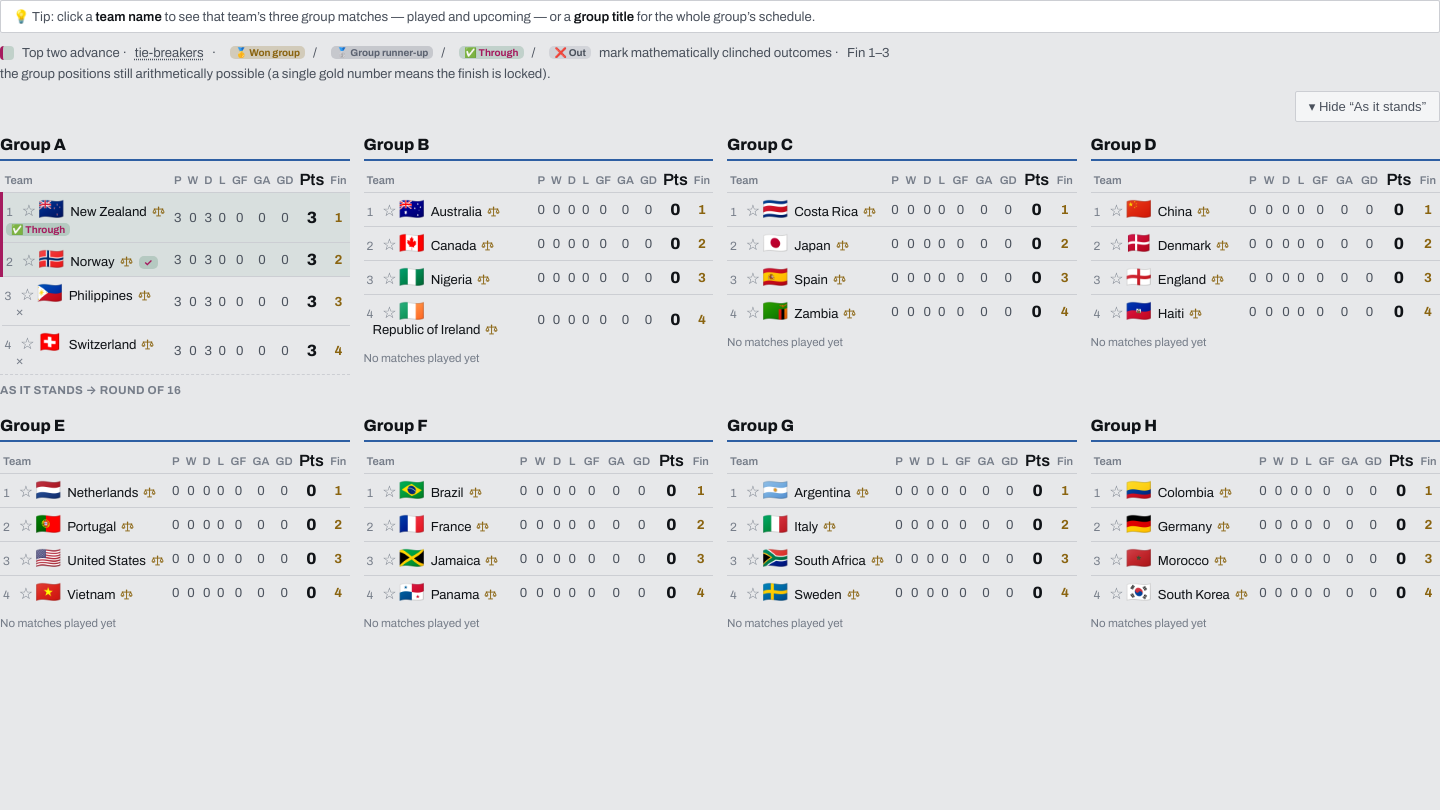
Test: Standings — what "as it stands" shows when the bracket cannot answer › offers a through team no matchup at all when neither source can name one
The width and height of the screenshot is (1440, 810).
What coordinates should you click on to do the following:
click the button with class "row-team-btn" showing "New Zealand"
I would click on:
 (108, 212)
Its box is [70, 204, 147, 220].
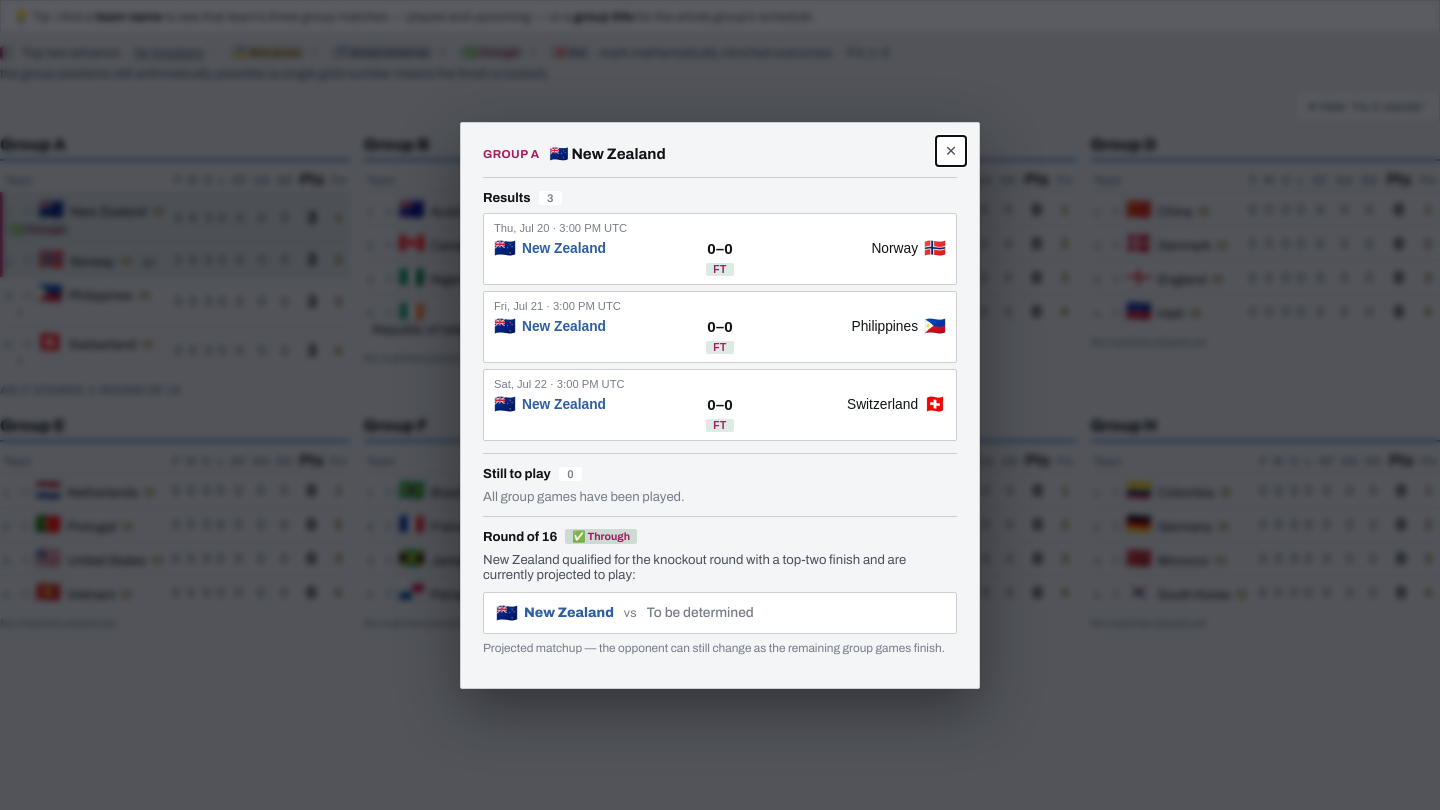
Expected: the element with class "gg-knockout" is shown, [483, 516, 957, 654]
Expected: the text with class "gg-ko-tbd" reads "To be determined", [646, 605, 754, 620]
